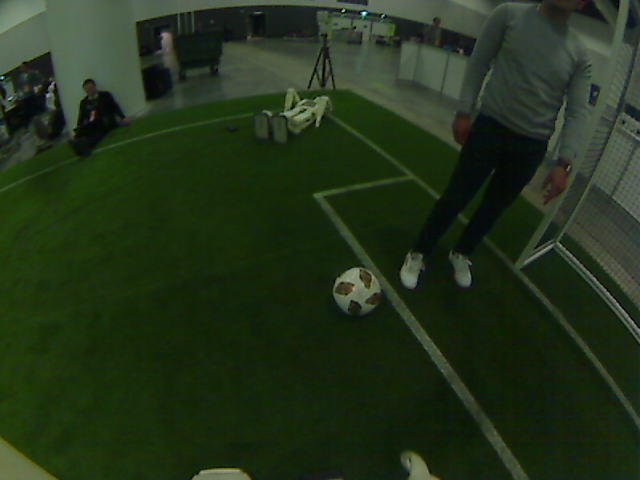ball: (337, 271, 377, 311)
goalpost: (499, 210, 539, 270)
robot: (255, 103, 291, 141)
